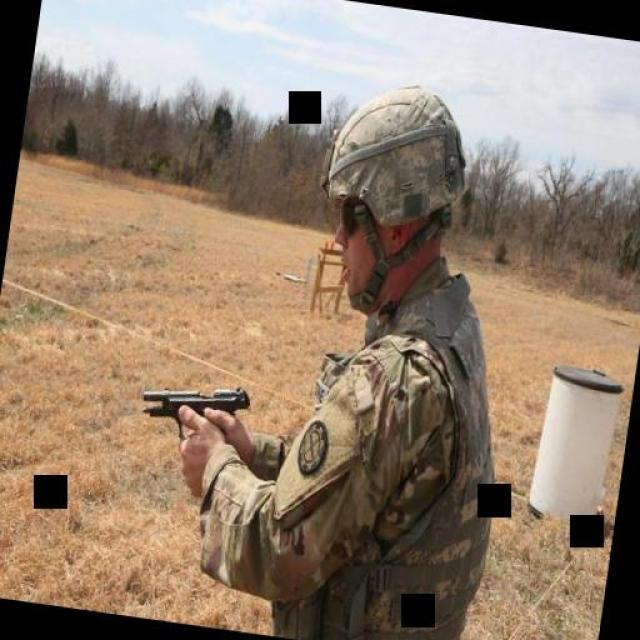gun: (132, 364, 252, 450)
